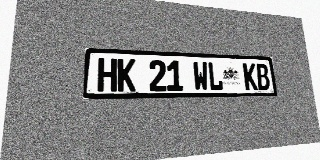1: (166, 60, 183, 91)
2: (149, 60, 166, 91)
B: (255, 63, 270, 90)
H: (97, 58, 117, 92)
K: (117, 59, 136, 92), (243, 63, 258, 90)
L: (207, 62, 223, 91)
W: (192, 61, 209, 91)
